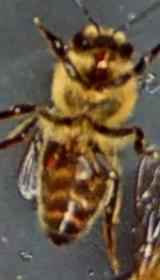varroa_mite: (24, 136, 76, 183)
